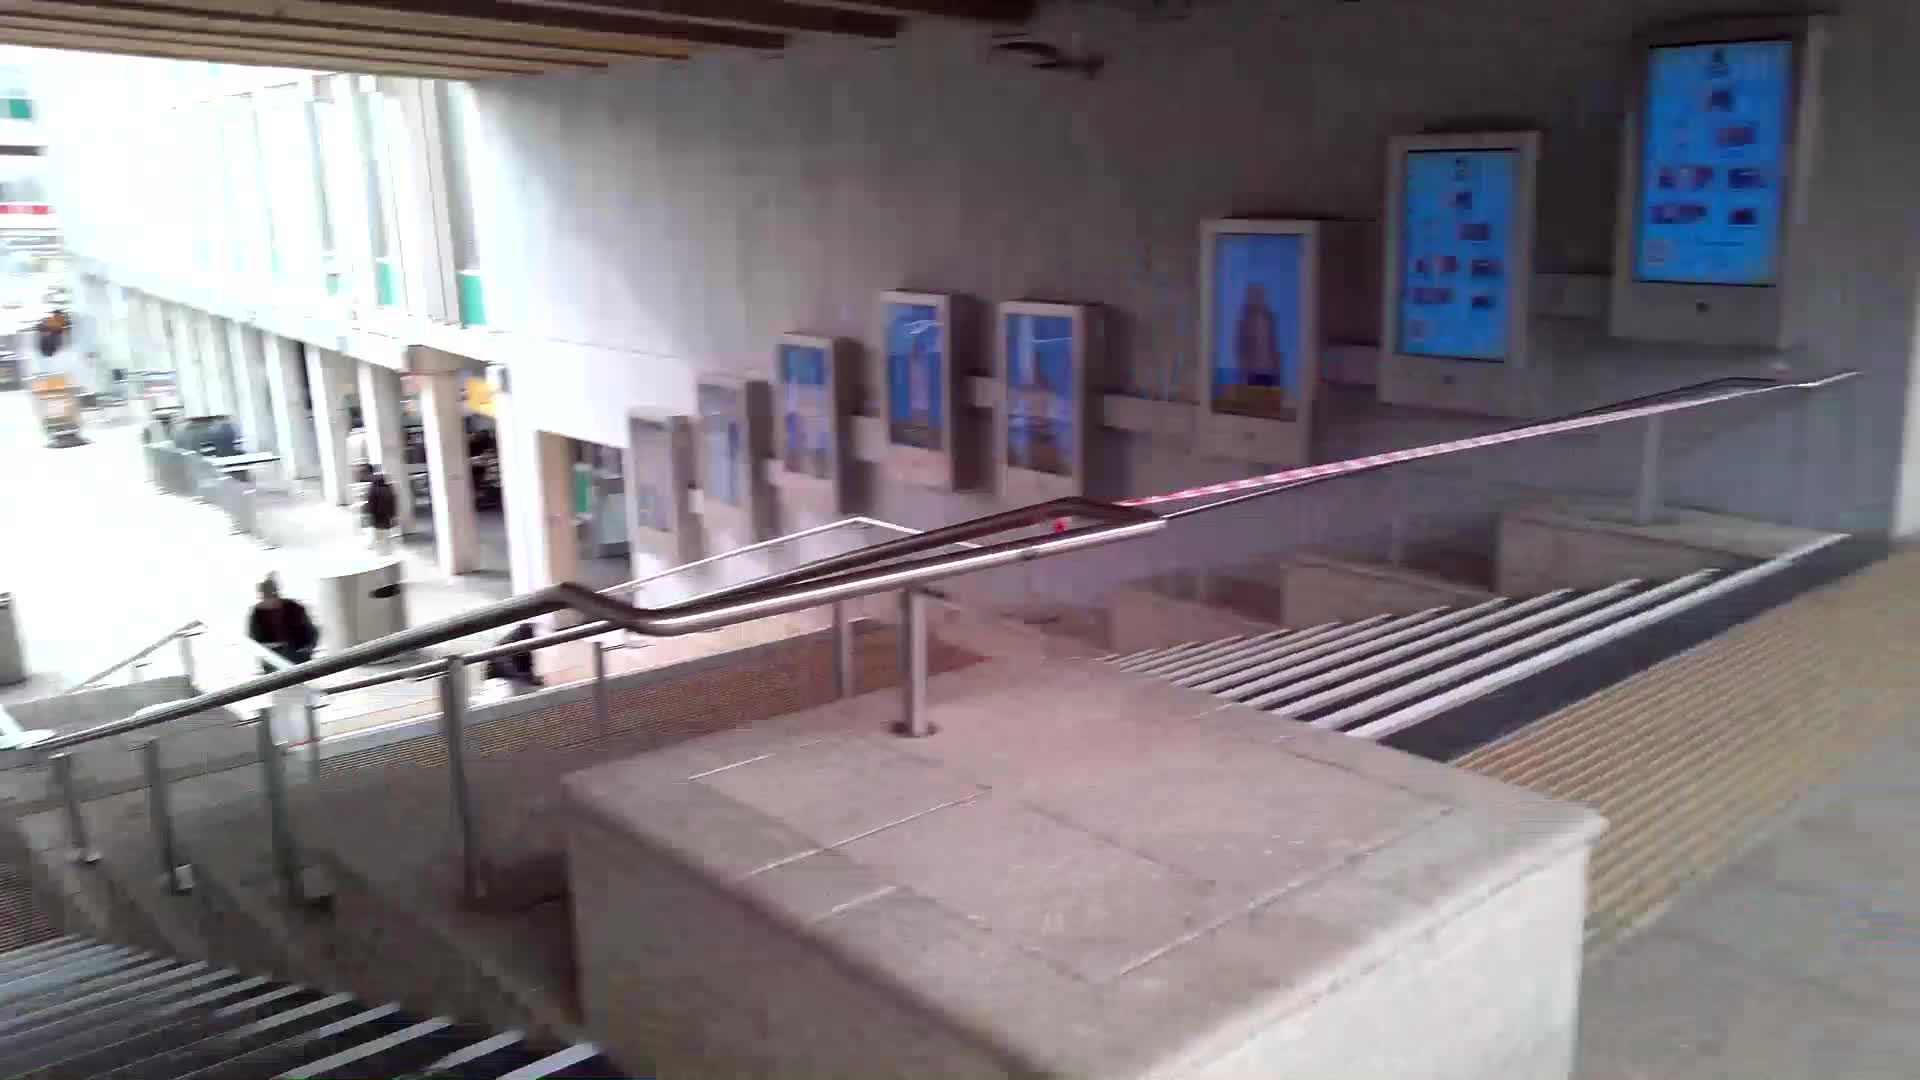Stairs: (1098, 562, 1842, 787)
